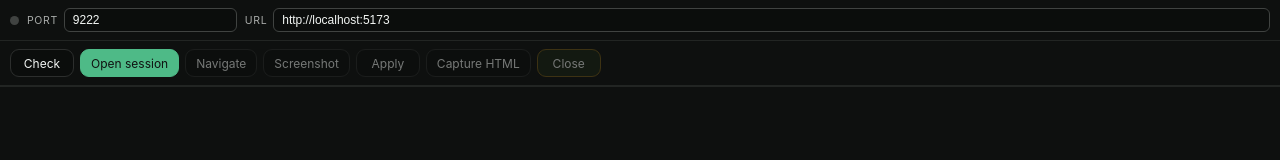
Test: BrowserWidget › surfaces ORIGIN_NOT_ALLOWED via role=alert
This screenshot has width=1280, height=160.
Click the button "Open session". click: (130,63)
box: [80,49,179,77]
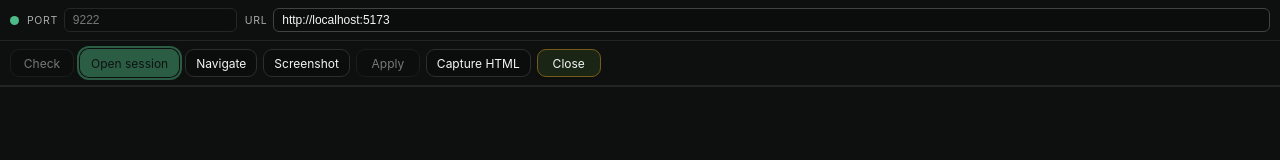
Now the button "Navigate" is enabled
Click the button "Navigate". click: (221,63)
box: [185,49,257,77]
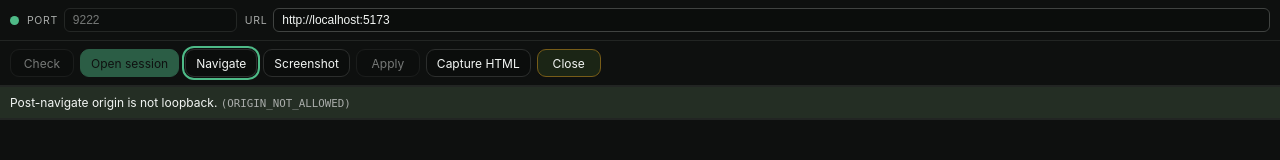
Now the message shows "ORIGIN_NOT_ALLOWED", box [227,97,344,110]
Now the message shows "Post-navigate origin is not loopback", box [10,95,217,110]
